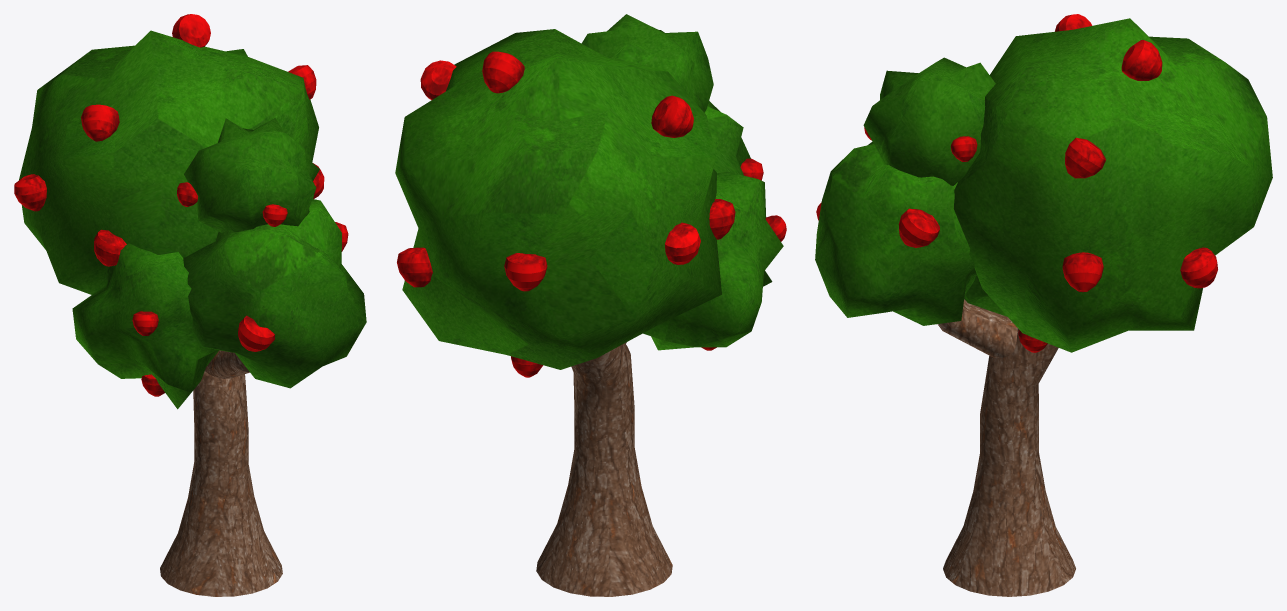
The model's file is AppleTree.fbx.
The picture shows the model from 3 angles, left to right: view 1: azimuth 30°, elevation 25°; view 2: azimuth 150°, elevation 25°; view 3: azimuth 270°, elevation 25°; orthographic projection. The views are drawn at different scales.
Parts seen in each view (by area): view 1: AppleTree; view 2: AppleTree; view 3: AppleTree.
Boxes of the visible parts, left/top/right/bottom form: AppleTree: left=14, top=14, right=366, bottom=596; AppleTree: left=395, top=14, right=786, bottom=596; AppleTree: left=815, top=14, right=1272, bottom=596.
Size of the model in its own units: 2.71 by 4.66 by 3.57.
